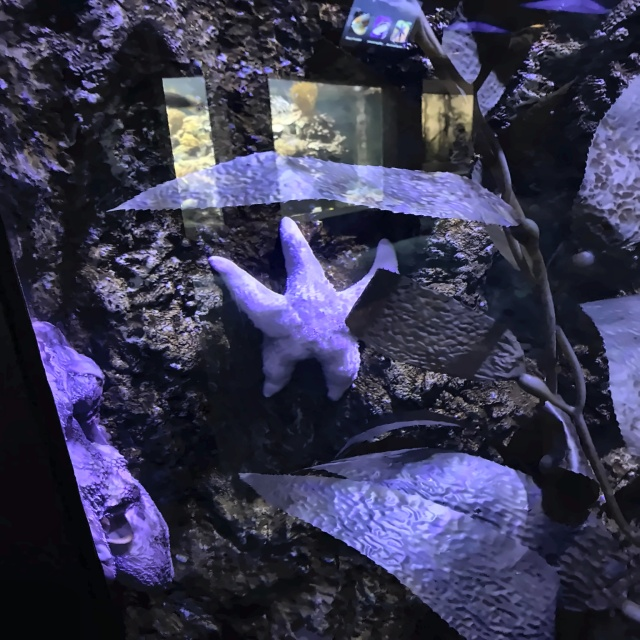starfish: (207, 214, 397, 400)
